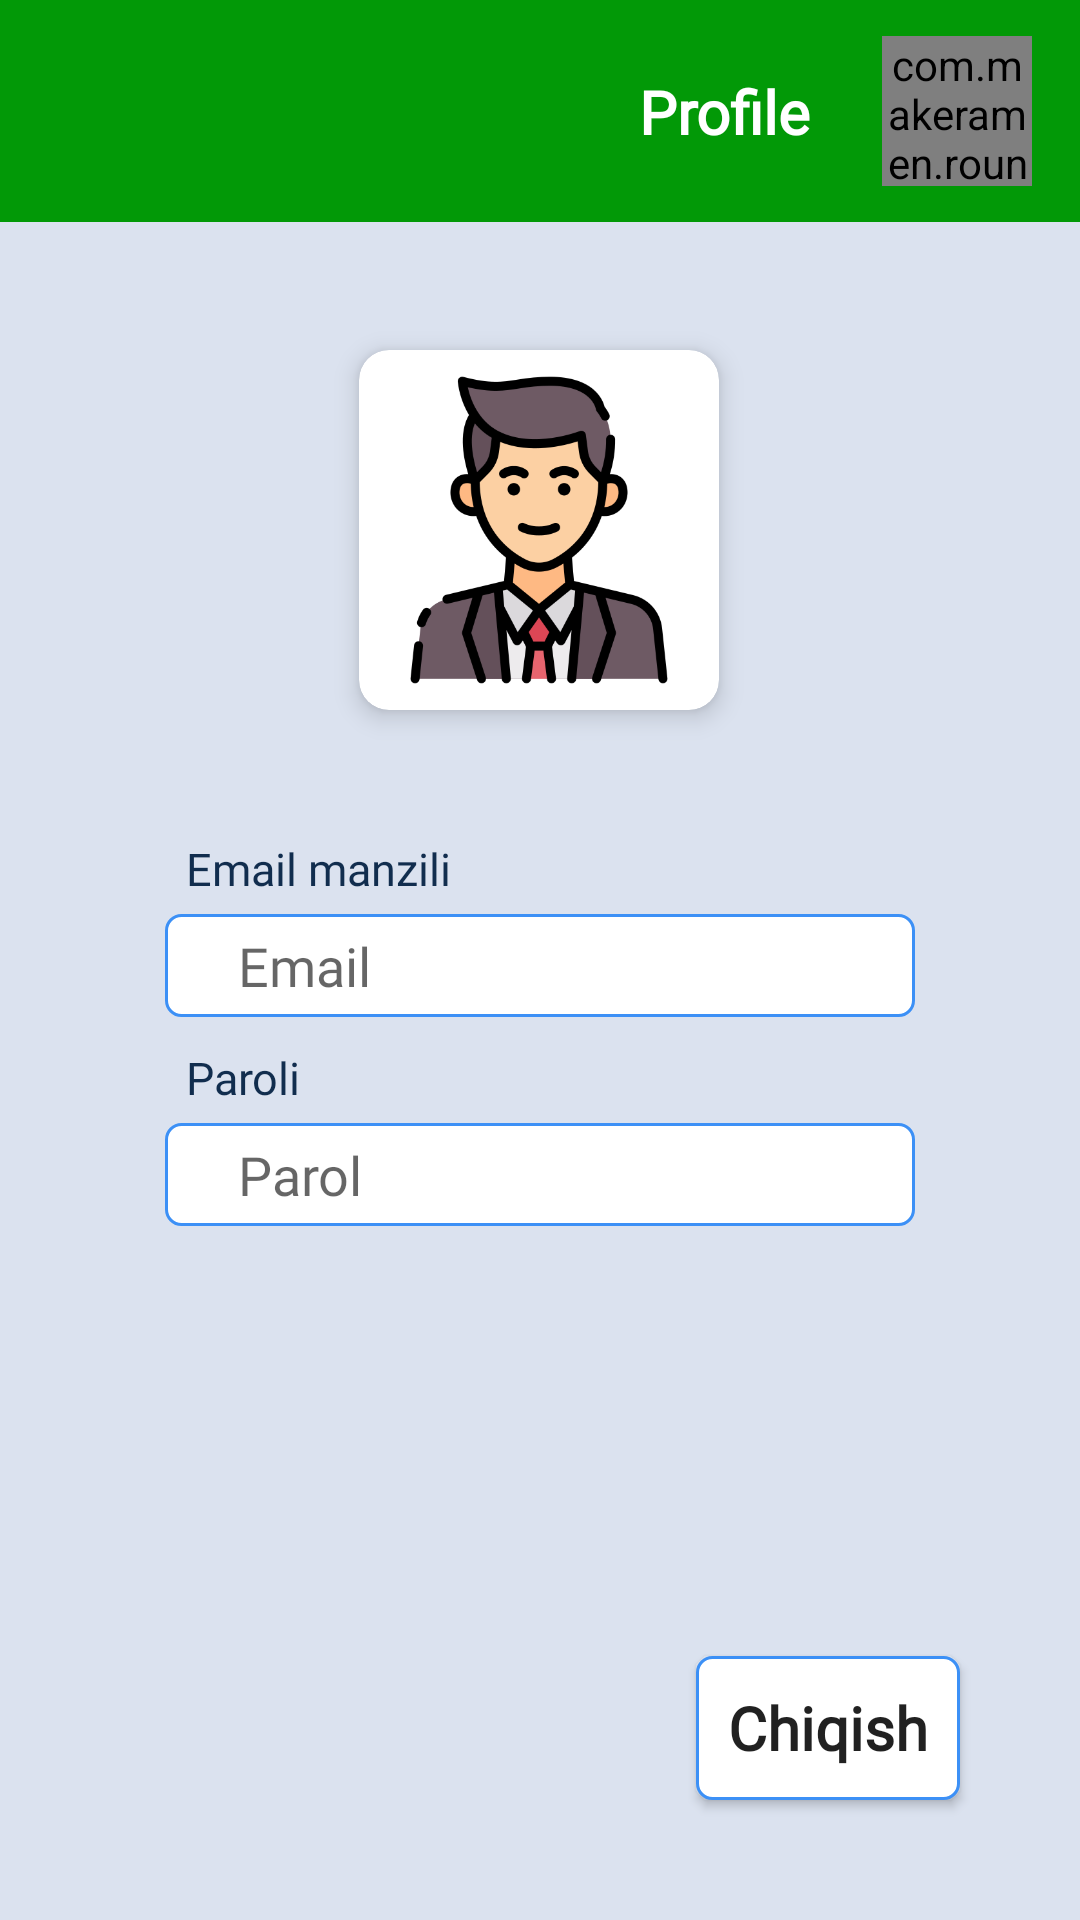

Named icons in this screenshot (1080px x 1920px) and their bounding boxes, (x1, y1, x2, y2):
businessman: (359, 350, 719, 710)
